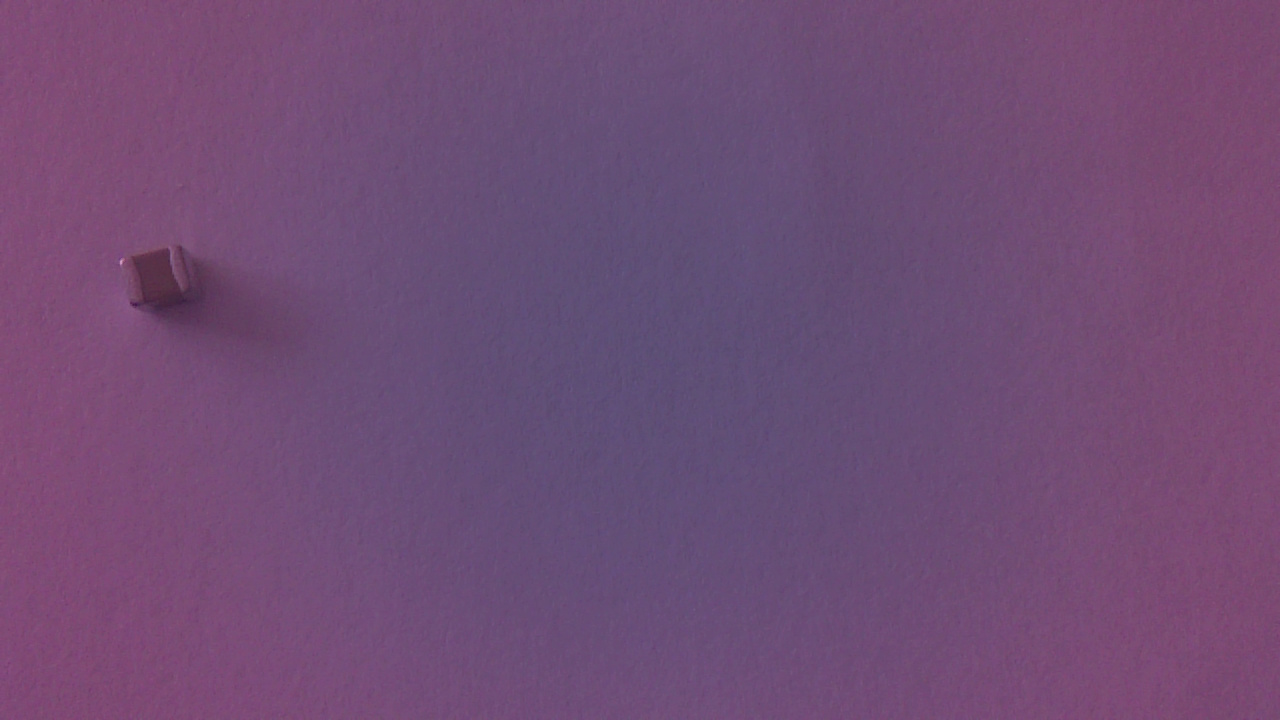Condensator: (118, 245, 206, 324)
